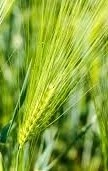Healthy Wheat: (18, 61, 68, 140)
